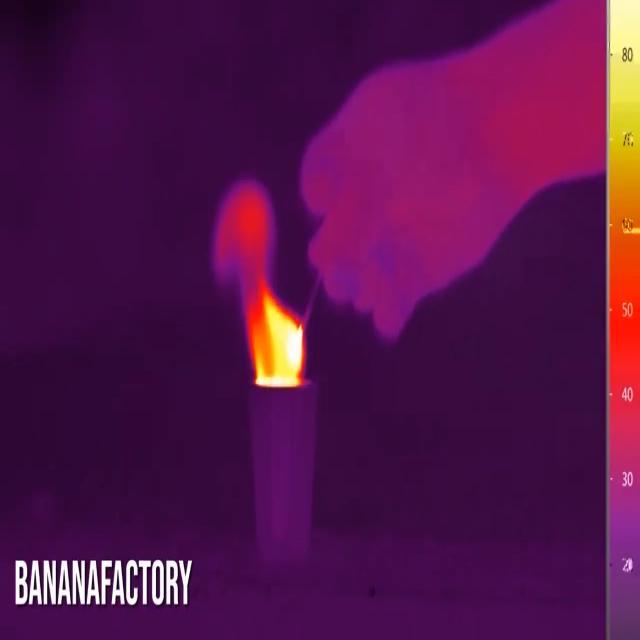fire: (238, 264, 308, 390)
